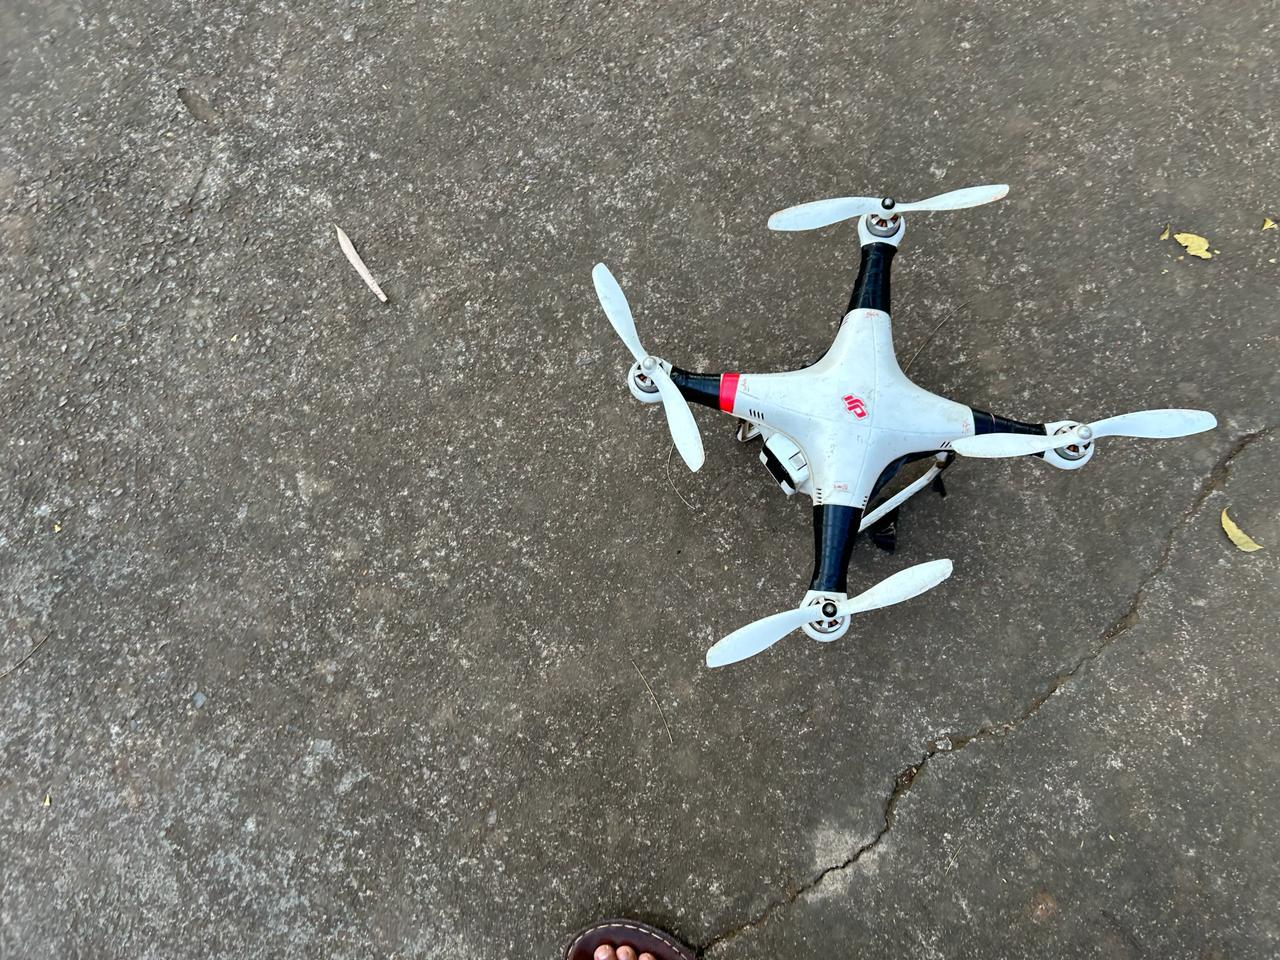drone: (567, 182, 1226, 674)
